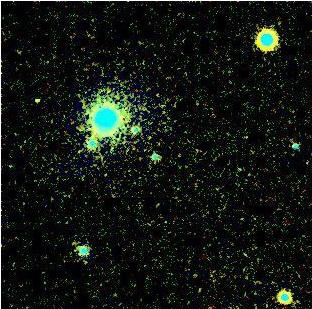star: (65, 112, 95, 142)
